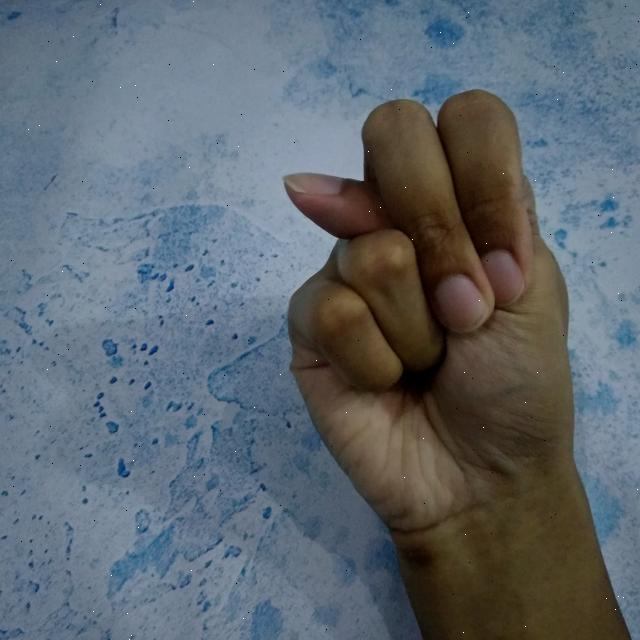N: (271, 80, 640, 640)
